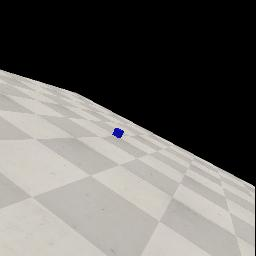box: (112, 128, 124, 138)
